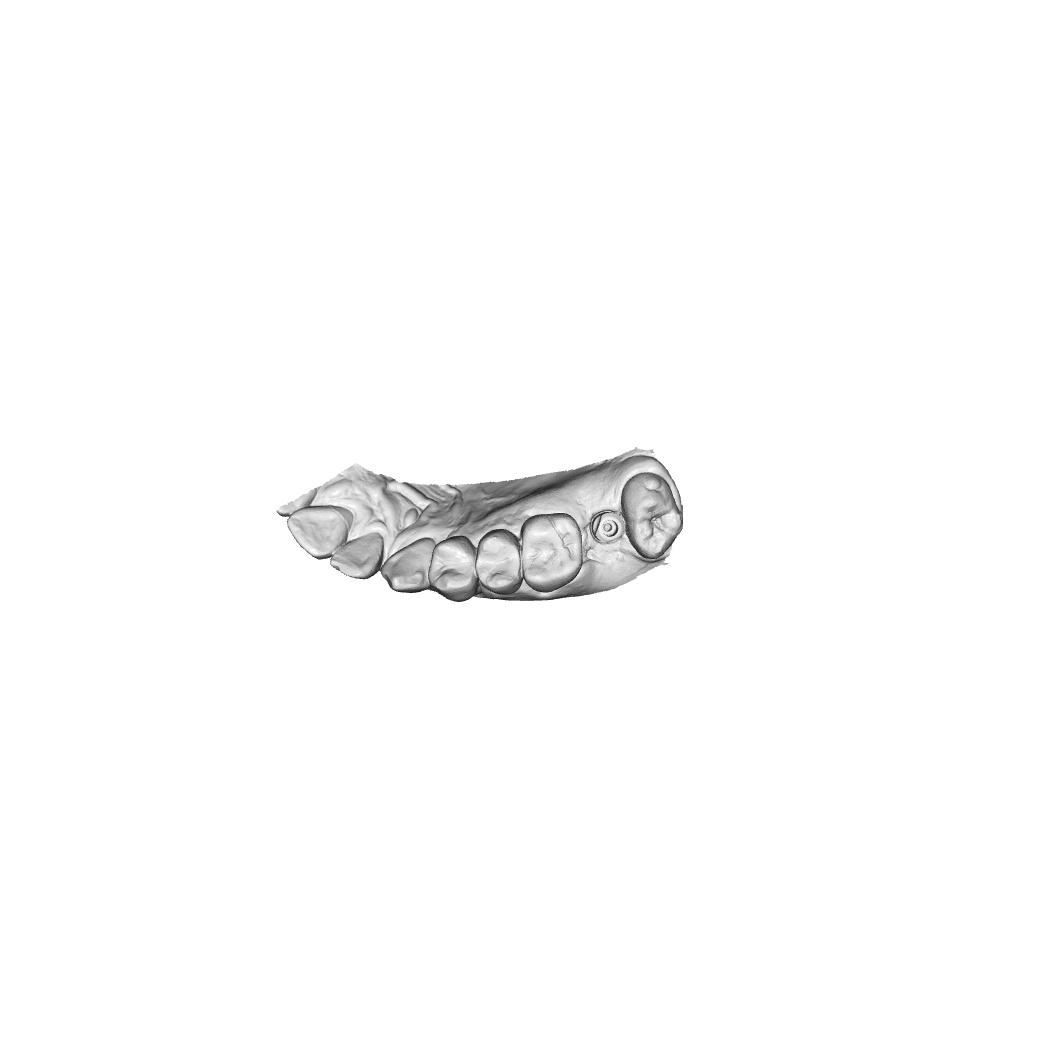canine: (378, 536, 437, 595)
implant: (590, 509, 623, 546)
incisor: (286, 505, 351, 561), (328, 529, 385, 580)
molar: (621, 471, 685, 561), (518, 511, 585, 594)
premolar: (427, 534, 481, 602), (475, 526, 523, 597)
